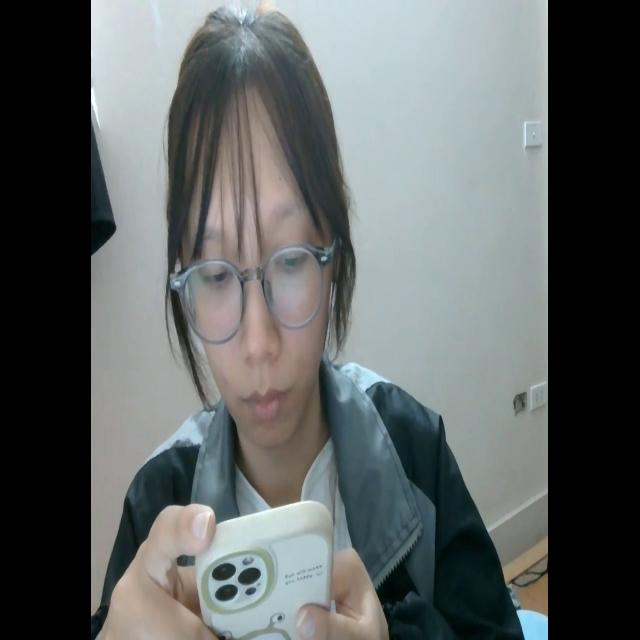phone: (193, 493, 339, 640)
student: (93, 3, 524, 640)
